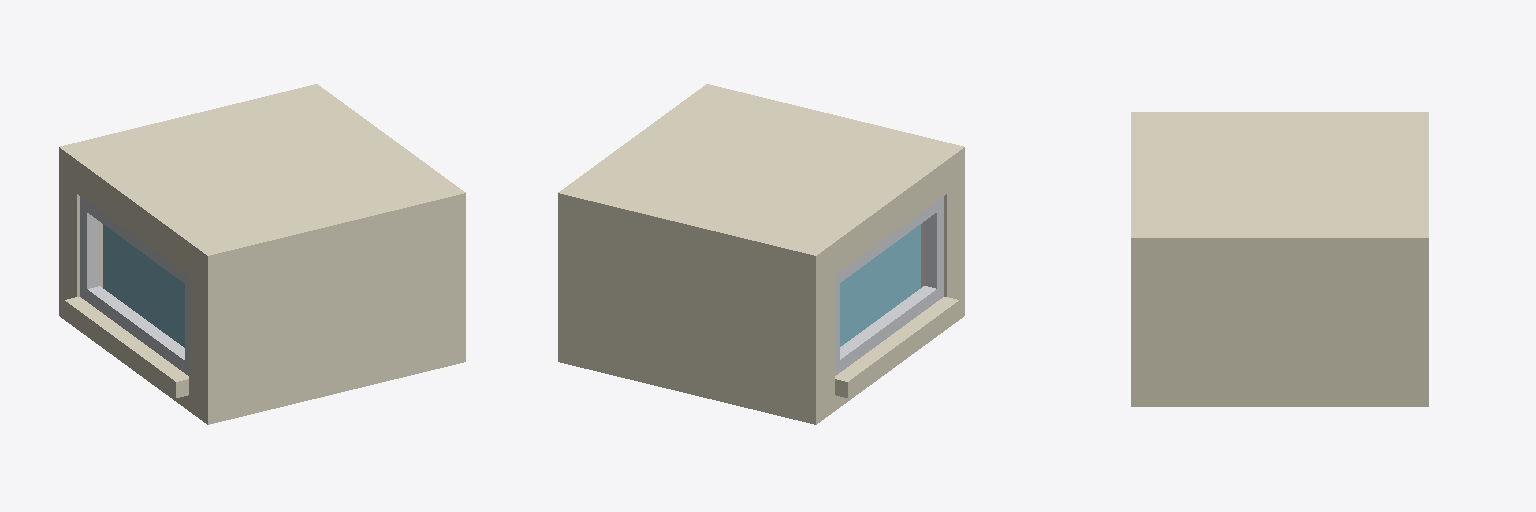
The model's file is modularBuildings_041.obj.
The picture shows the model from 3 angles: view 1: azimuth 30°, elevation 25°; view 2: azimuth 150°, elevation 25°; view 3: azimuth 270°, elevation 25°; orthographic projection.
Parts seen in each view (by area): view 1: Mesh1_Group1_Model, Mesh1_Group1_Model.001; view 2: Mesh1_Group1_Model, Mesh1_Group1_Model.001; view 3: Mesh1_Group1_Model.
Part boxes in pixels (bbox=[...]): Mesh1_Group1_Model: bbox=[59, 84, 465, 424]; Mesh1_Group1_Model.001: bbox=[80, 197, 188, 375]; Mesh1_Group1_Model: bbox=[558, 84, 964, 424]; Mesh1_Group1_Model.001: bbox=[835, 197, 943, 375]; Mesh1_Group1_Model: bbox=[1131, 112, 1428, 406].
Bounding box in the file's own units: 1.05 × 0.625 × 1.